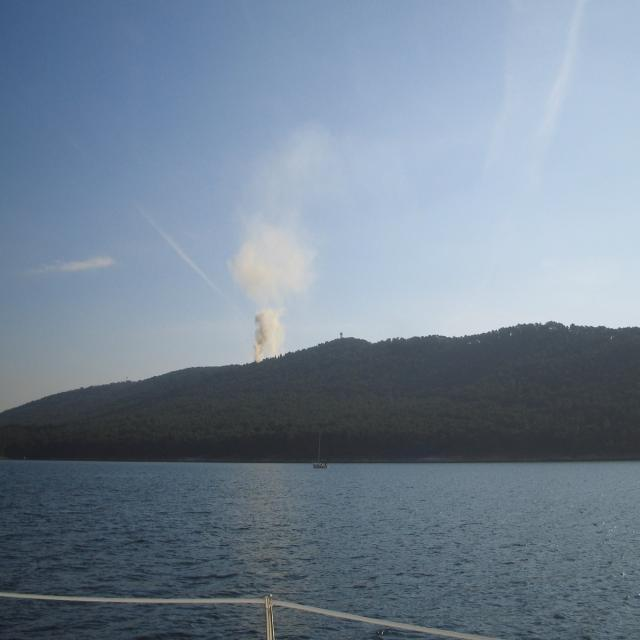Smoke: (224, 118, 366, 363)
